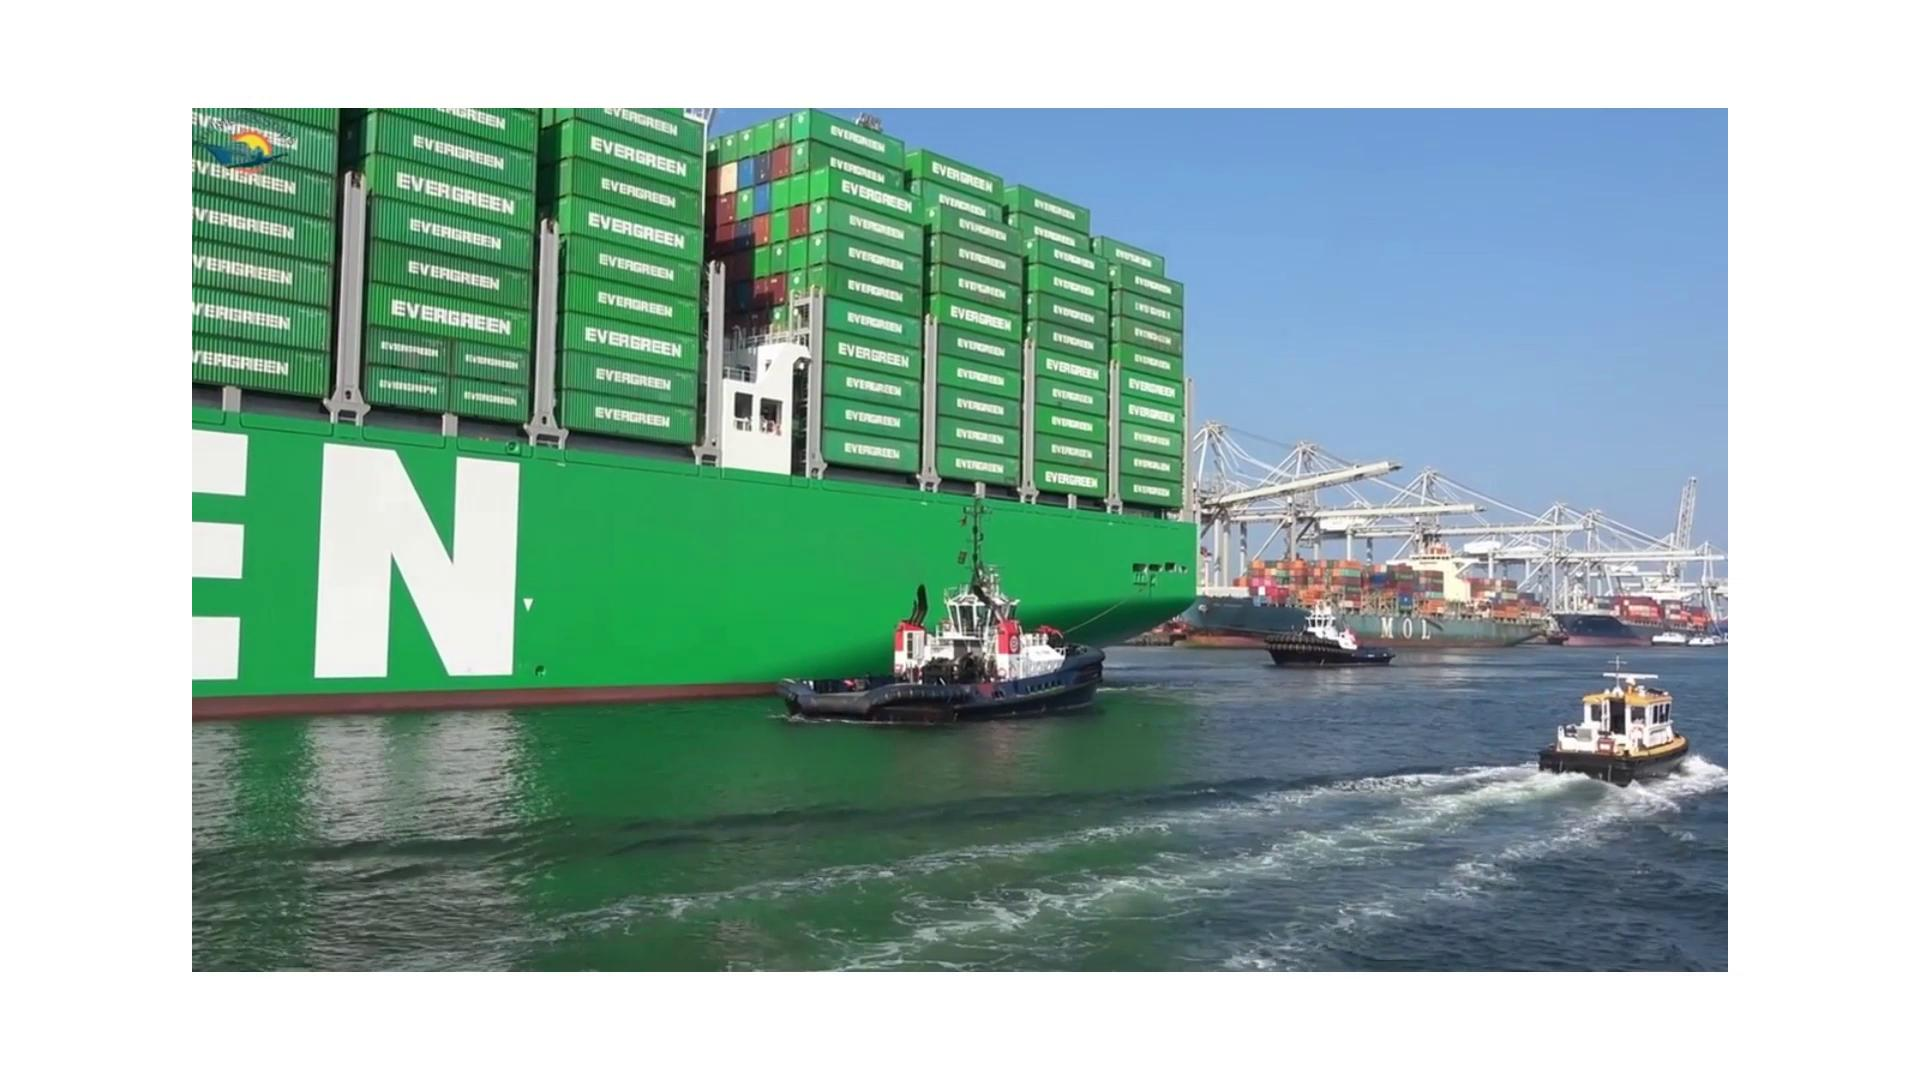OCR: (237, 411, 589, 717)
